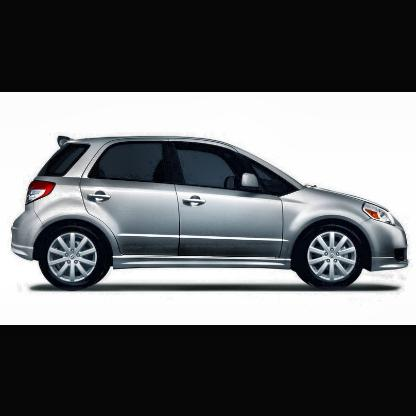Suzuki SX4 Hatchback 2012: (12, 136, 409, 292)
